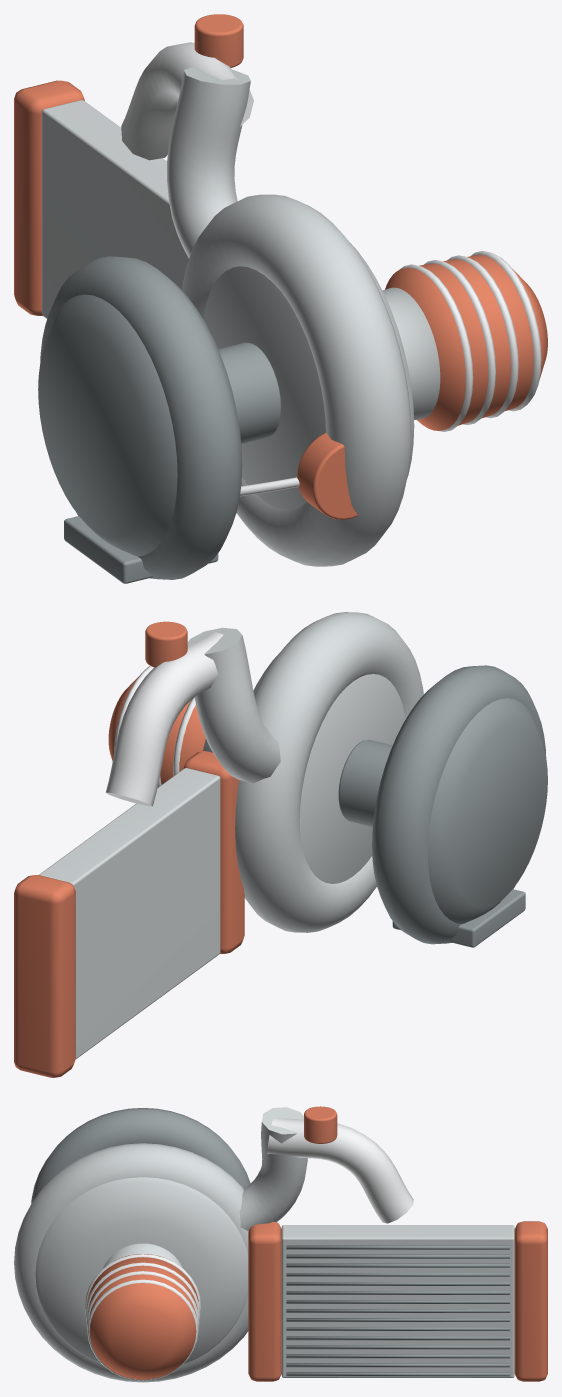
File: turbo_club.fbx
3 views of the same model, one above another, from view 1: azimuth 30°, elevation 25°; view 2: azimuth 150°, elevation 25°; view 3: azimuth 270°, elevation 25° (orthographic). The views are drawn at different scales.
Visible parts, largest first — view 1: turbo_club; view 2: turbo_club; view 3: turbo_club.
Part boxes in pixels (left/top/right/bottom): turbo_club: left=14, top=14, right=547, bottom=583; turbo_club: left=14, top=612, right=547, bottom=1077; turbo_club: left=14, top=1106, right=547, bottom=1382.
Size of the model in its own units: 61.5 by 56.75 by 96.25.
